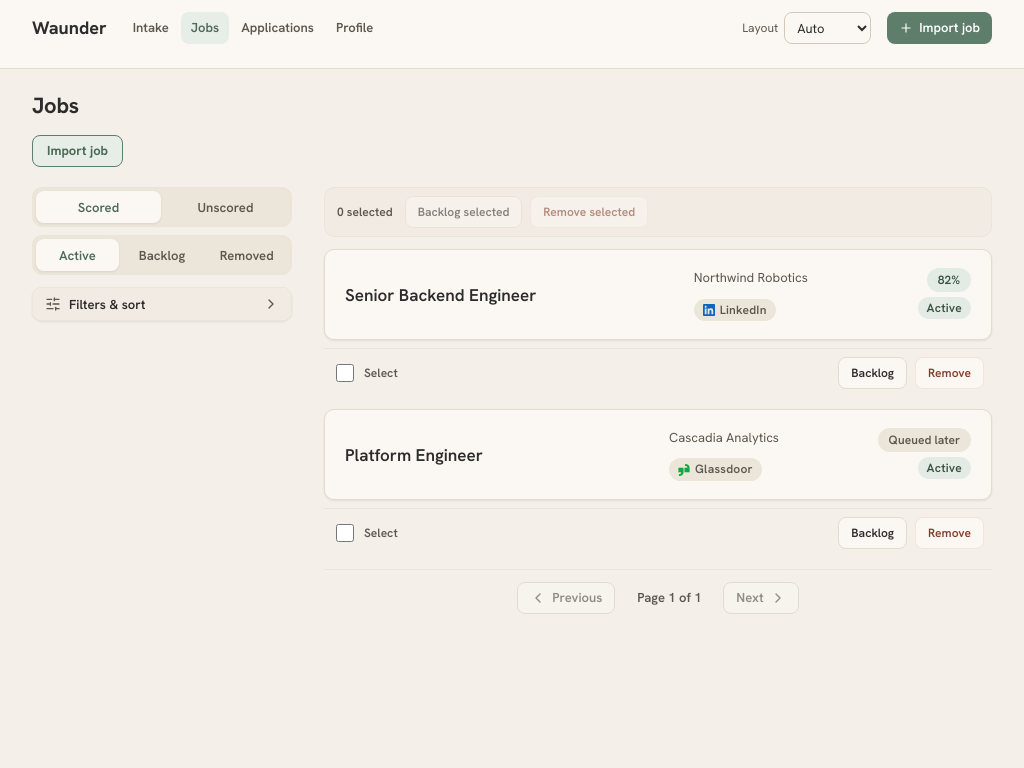
Scenario: lifecycle writes › clears the selection of the rows a bulk write moved
Expected: the list with class "job-list-items" is shown, [324, 250, 992, 549]
Click the checkbox named "Select Senior Backend Engineer": {"x": 345, "y": 373} [336, 364, 354, 382]
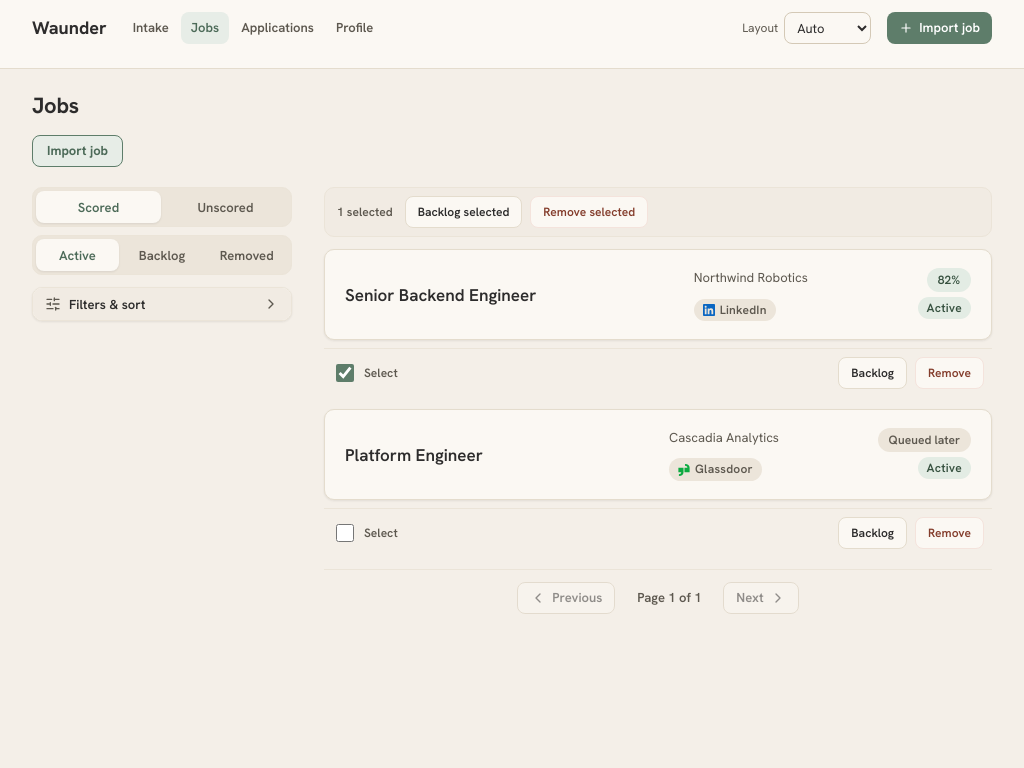
Click the checkbox named "Select Platform Engineer": {"x": 345, "y": 533} [336, 524, 354, 542]
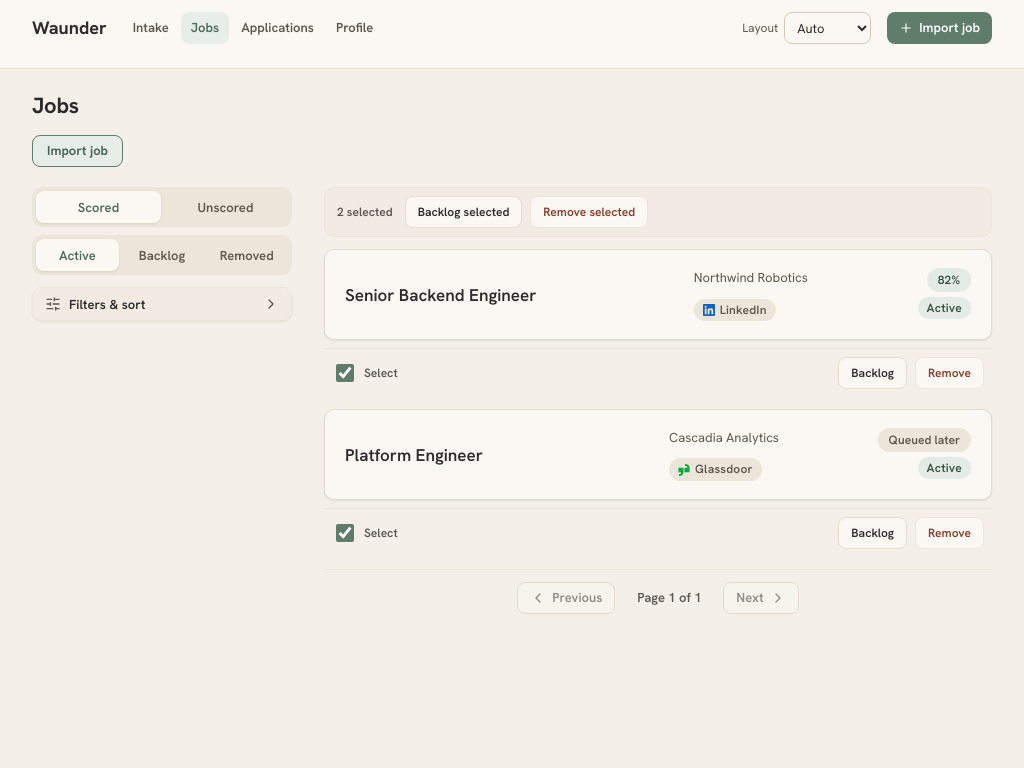
Click the button "Backlog selected": {"x": 464, "y": 212} [405, 196, 522, 228]
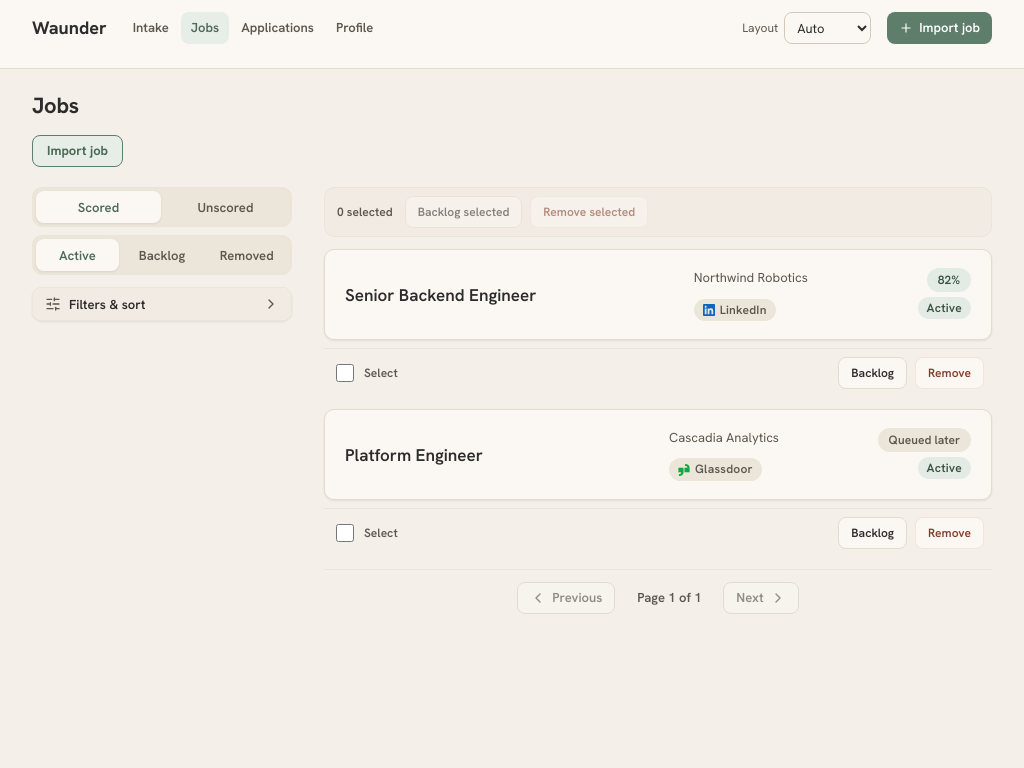
Result: the checkbox named "Select Platform Engineer" is not checked at [336, 524, 354, 542]
Result: the text "0 selected" is shown at [337, 203, 393, 222]
